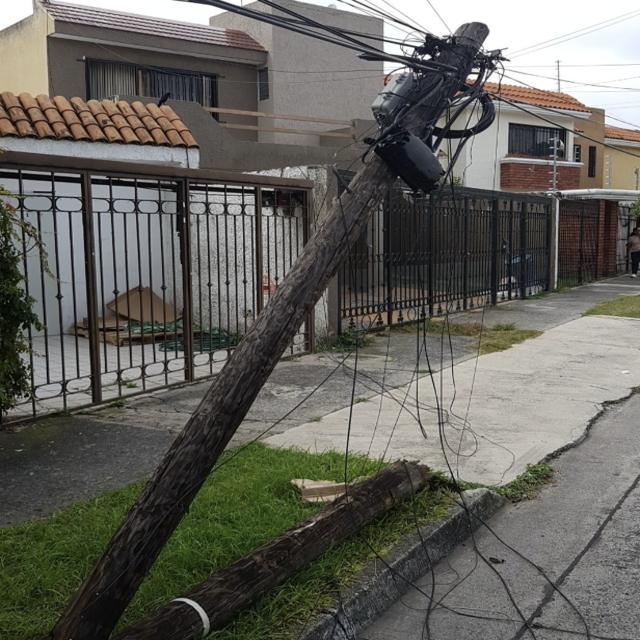Inclined Pole: (40, 20, 509, 640), (114, 455, 431, 639)
